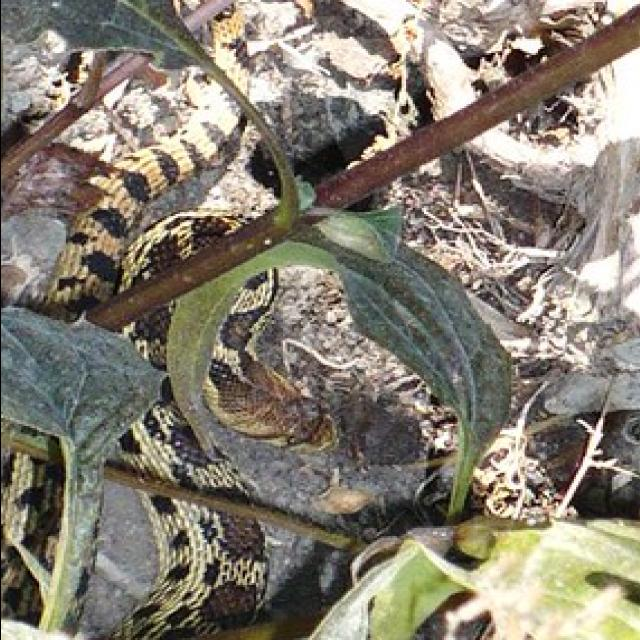Snake: (0, 0, 329, 640)
